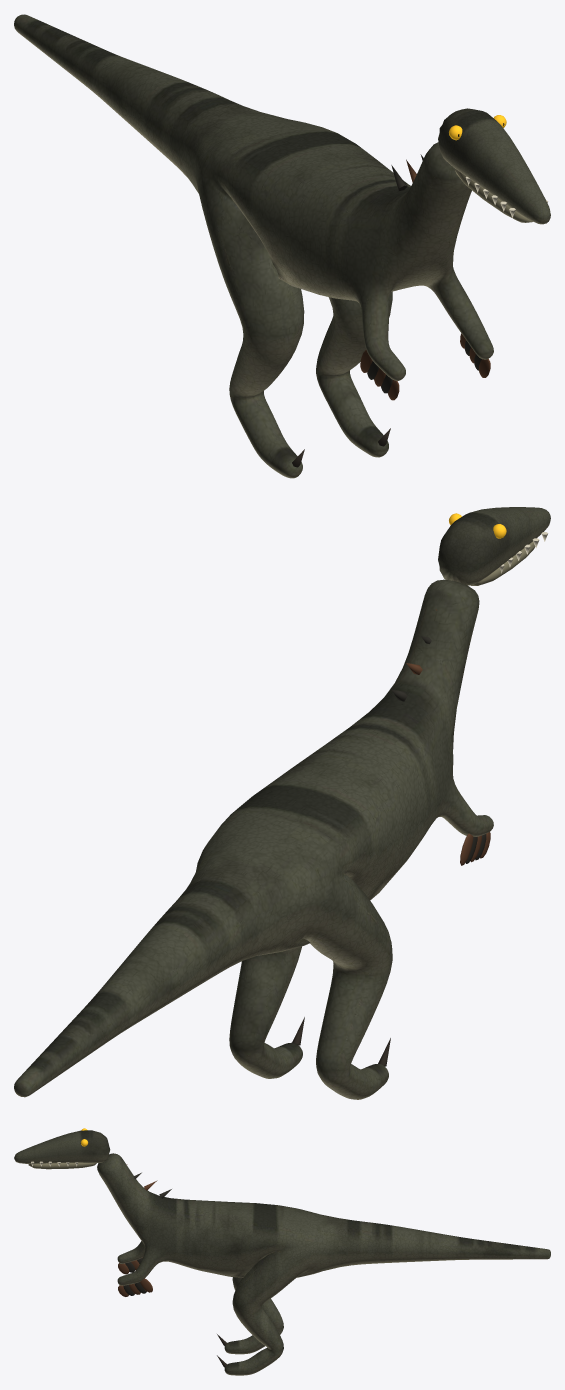
Rendered from velociraptor.glb.
The picture shows the model from 3 angles, top to bottom: view 1: azimuth 30°, elevation 25°; view 2: azimuth 150°, elevation 25°; view 3: azimuth 270°, elevation 25°; orthographic projection. The views are drawn at different scales.
Parts seen in each view (by area): view 1: velociraptor; view 2: velociraptor; view 3: velociraptor.
Part boxes in pixels (bbox=[...]): velociraptor: bbox=[14, 14, 550, 478]; velociraptor: bbox=[14, 507, 550, 1099]; velociraptor: bbox=[14, 1128, 550, 1375].
Size of the model in its own units: 0.6946 by 2.03 by 4.24.
9 materials, 2 textured.
